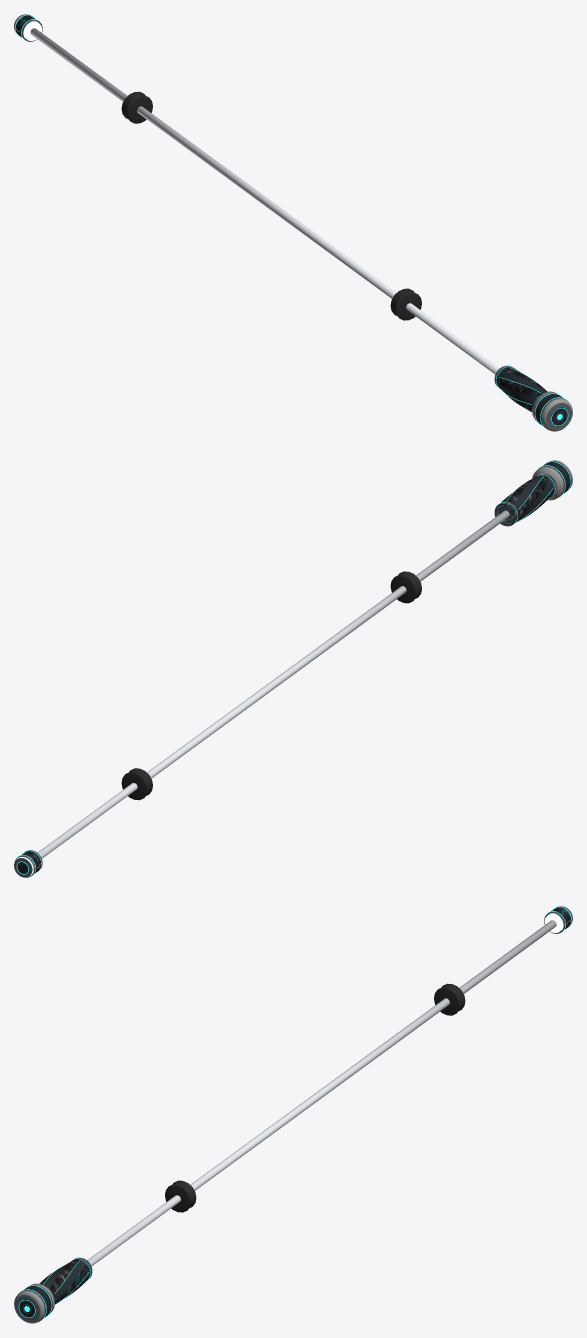
File: fuzeball_rod_5man.glb
The picture shows the model from 3 angles, top to bottom: view 1: azimuth 30°, elevation 25°; view 2: azimuth 150°, elevation 25°; view 3: azimuth 330°, elevation 25°; orthographic projection.
Visible parts, largest first — view 1: rod5_bar.002, rod5_handle_obsidian_grip, obsidian_hardware_1, CylinderL, CylinderR; view 2: rod5_bar.002, rod5_handle_obsidian_grip, obsidian_hardware_1, CylinderL, CylinderR; view 3: rod5_bar.002, rod5_handle_obsidian_grip, obsidian_hardware_1, CylinderL, CylinderR.
Part boxes in pixels (<box>): rod5_bar.002: <box>30,28,499,374</box>; rod5_handle_obsidian_grip: <box>494,366,547,412</box>; obsidian_hardware_1: <box>14,14,571,430</box>; CylinderL: <box>390,288,421,320</box>; CylinderR: <box>121,91,152,123</box>; rod5_bar.002: <box>37,510,509,858</box>; rod5_handle_obsidian_grip: <box>494,474,556,525</box>; obsidian_hardware_1: <box>14,461,571,877</box>; CylinderL: <box>390,571,421,603</box>; CylinderR: <box>121,768,152,800</box>; rod5_bar.002: <box>87,920,556,1266</box>; rod5_handle_obsidian_grip: <box>39,1258,92,1304</box>; obsidian_hardware_1: <box>15,906,572,1322</box>; CylinderL: <box>165,1180,196,1212</box>; CylinderR: <box>434,983,465,1015</box>.
Bounding box in the file's own units: 3.51 × 3.51 × 106.
Materials: 9 (1 with a texture image).
